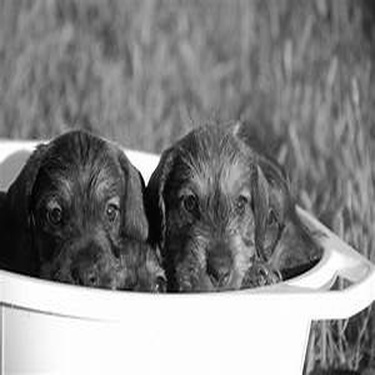dog: (129, 113, 324, 302), (3, 110, 162, 304)
